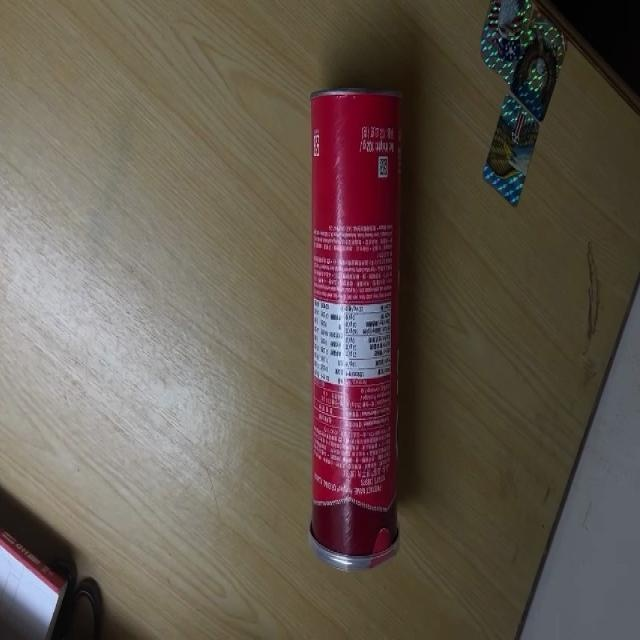Pringles: (310, 87, 405, 572)
